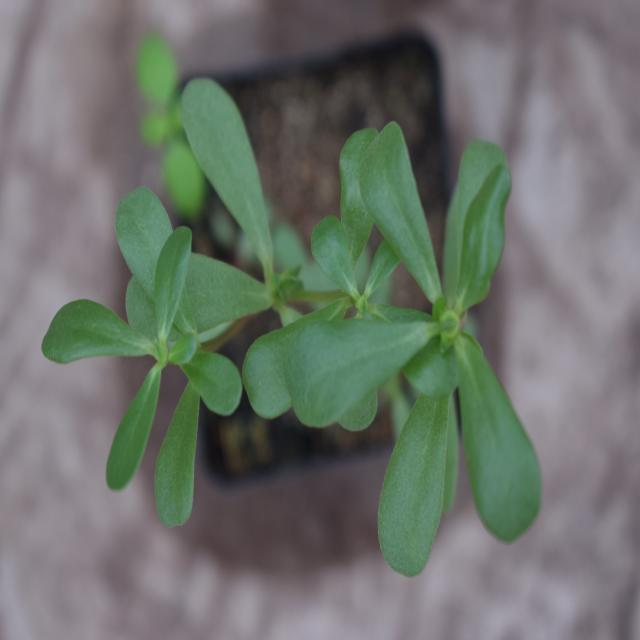purslane: (66, 80, 557, 564)
